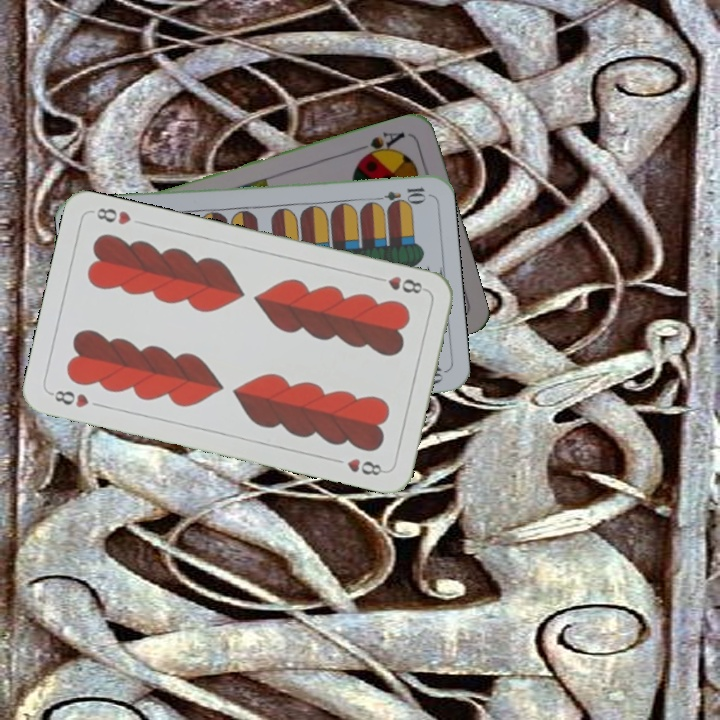E10: (369, 183, 428, 205)
H8: (370, 272, 429, 296), (46, 386, 92, 411)
SA: (353, 127, 408, 163)
